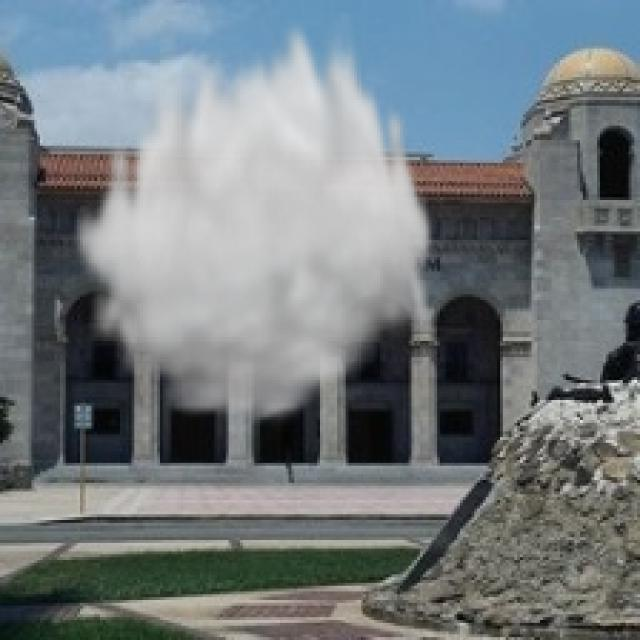smoke: (69, 9, 437, 432)
